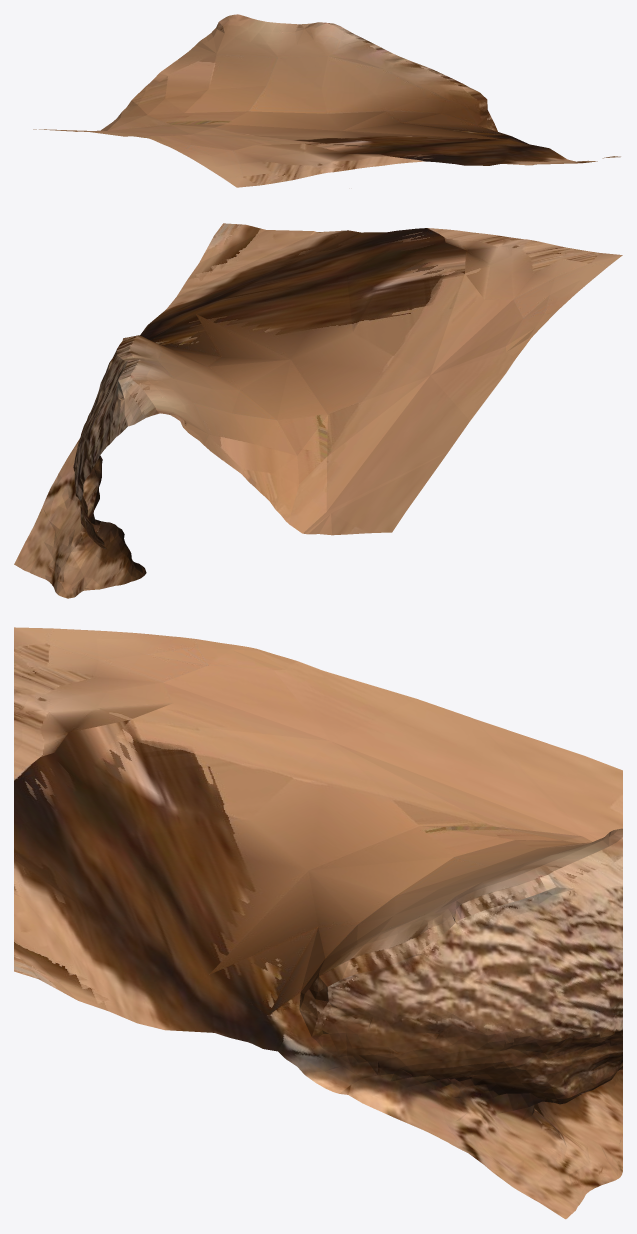
3 views of the same model, one above another, from view 1: azimuth 30°, elevation 25°; view 2: azimuth 150°, elevation 25°; view 3: azimuth 270°, elevation 25° (orthographic). The views are drawn at different scales.
Size of the model in its own units: 1.04 by 0.6334 by 1.04.
3 materials, 3 textured.
